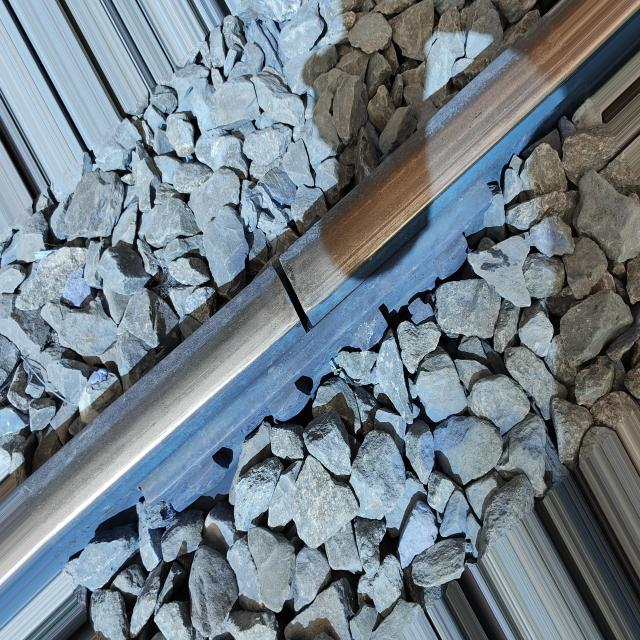crack: (263, 252, 327, 342)
